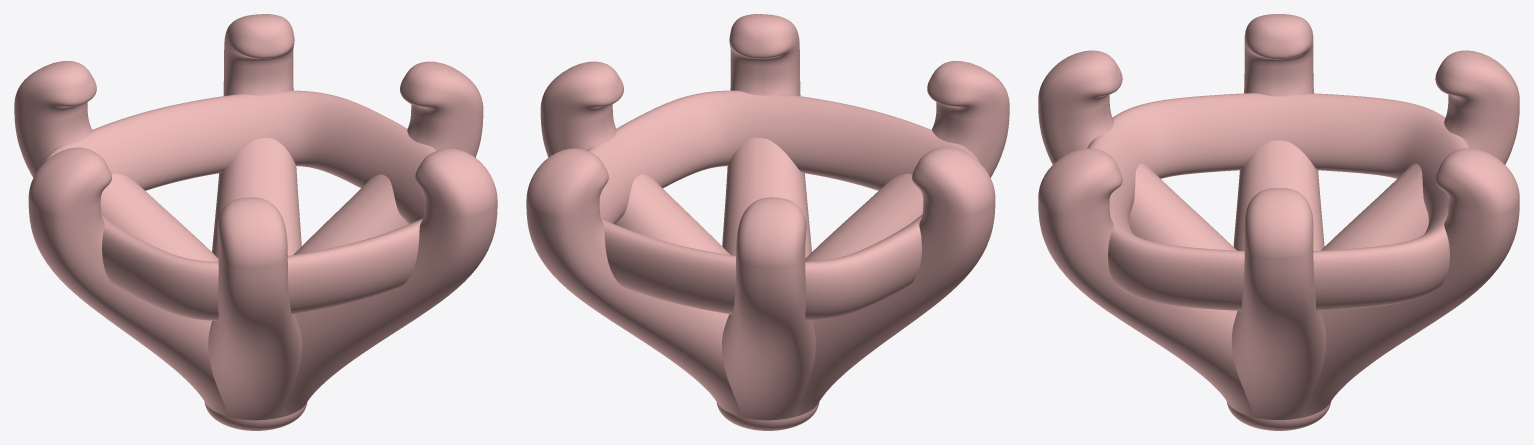
Rendered from ASSCHER.glb.
3 views of the same model, side by side, from view 1: azimuth 30°, elevation 25°; view 2: azimuth 150°, elevation 25°; view 3: azimuth 270°, elevation 25° (orthographic).
Visible parts, largest first — view 1: cushion.001; view 2: cushion.001; view 3: cushion.001.
Boxes of the visible parts, bbox=[...] form: cushion.001: bbox=[14, 14, 497, 430]; cushion.001: bbox=[526, 14, 1009, 430]; cushion.001: bbox=[1038, 14, 1519, 430].
Size of the model in its own units: 6.39 by 4.3 by 5.96.
